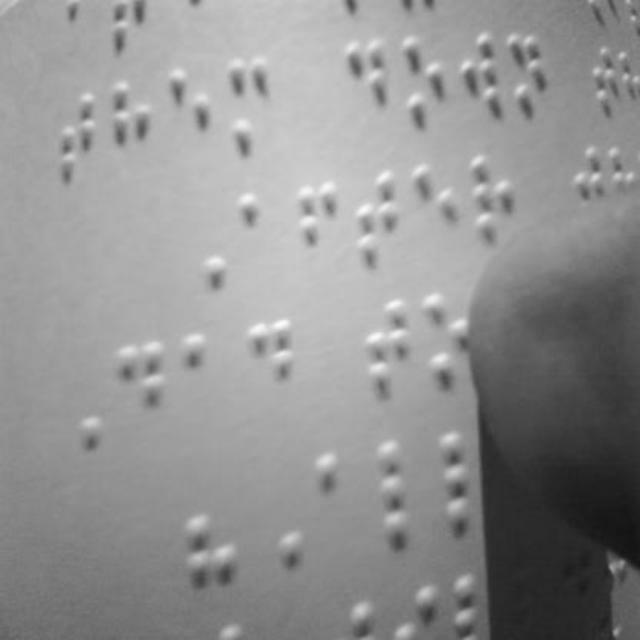braiile: (313, 444, 377, 554), (115, 338, 175, 447), (358, 288, 418, 396), (354, 160, 410, 274), (245, 312, 303, 422), (414, 158, 468, 268), (378, 439, 430, 549), (227, 50, 280, 156), (294, 176, 344, 286), (180, 330, 232, 432), (394, 28, 446, 130), (340, 30, 390, 136), (457, 28, 507, 134), (168, 63, 216, 173), (108, 74, 158, 178), (469, 152, 521, 252), (54, 85, 102, 189), (234, 186, 284, 284), (505, 28, 549, 122)
